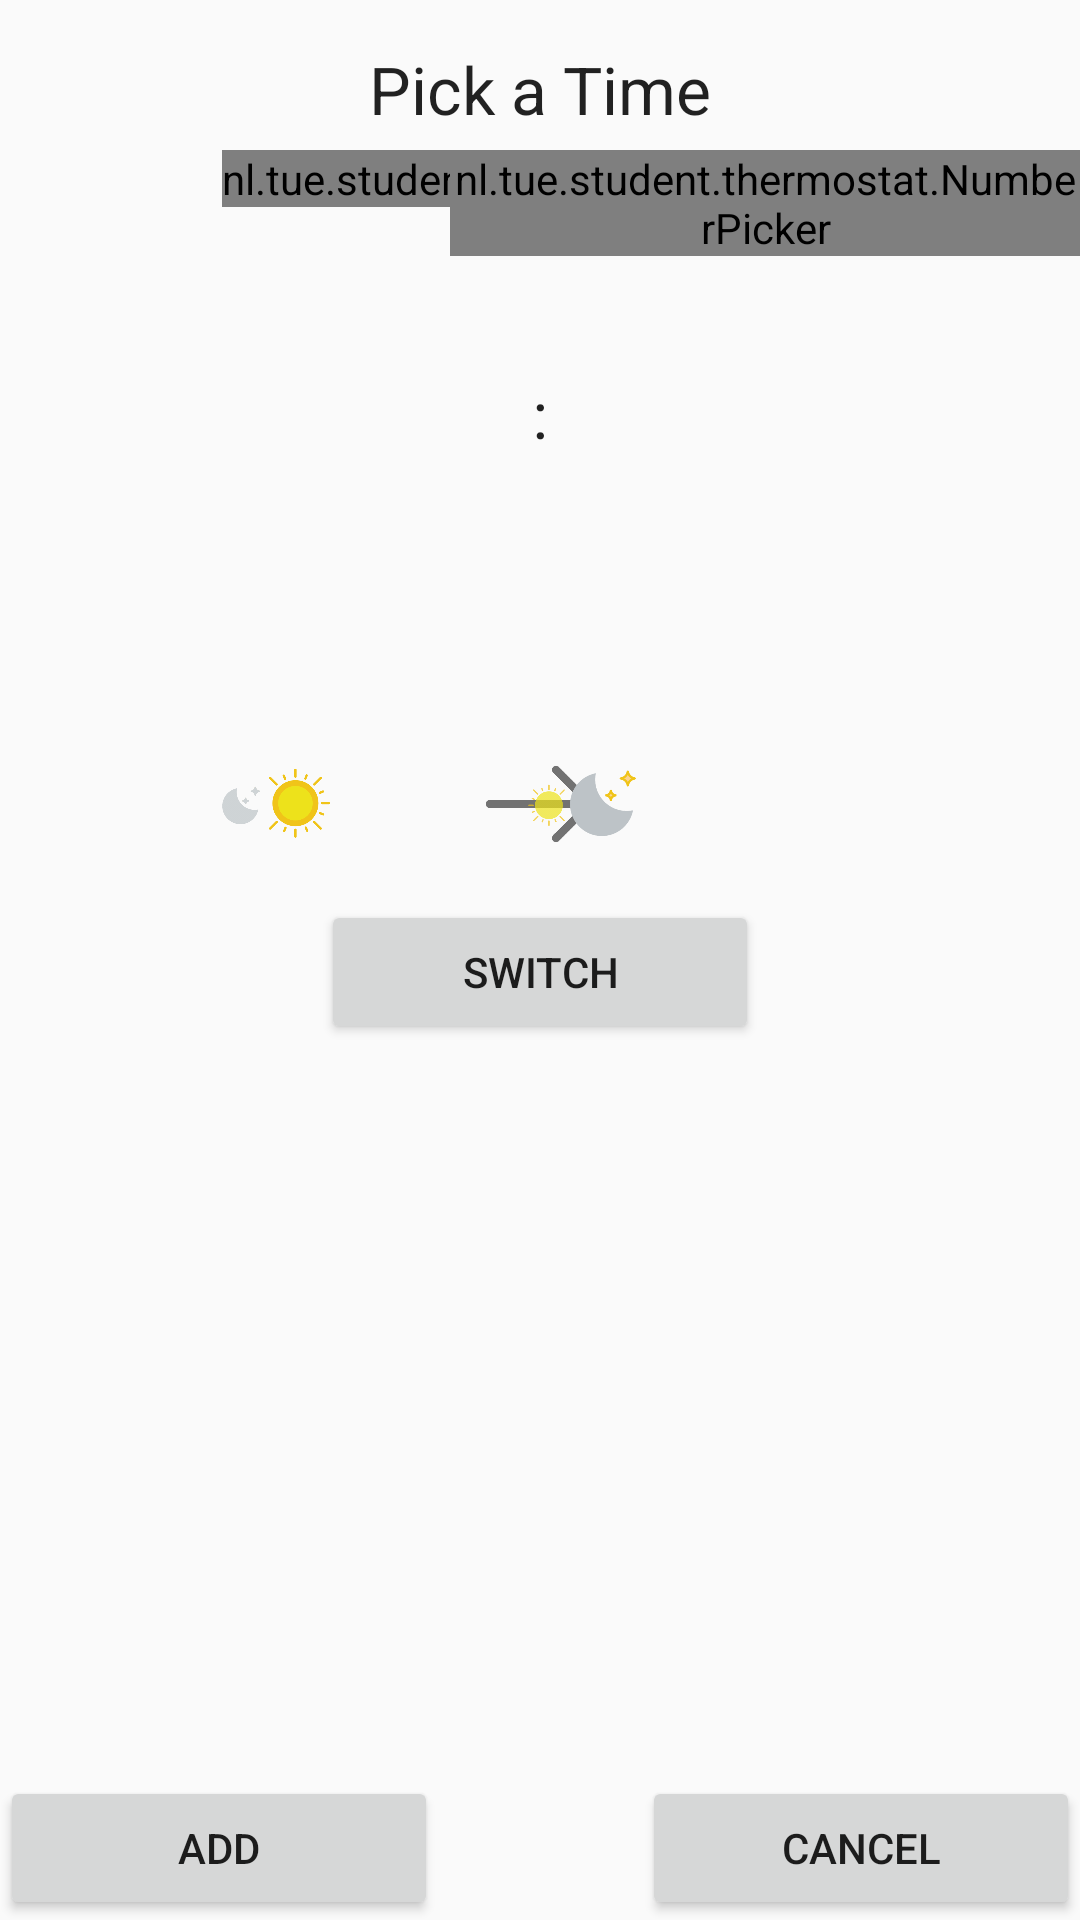

Named icons in this screenshot (1080*1920) and their centers, (x,y):
day: (276,803)
